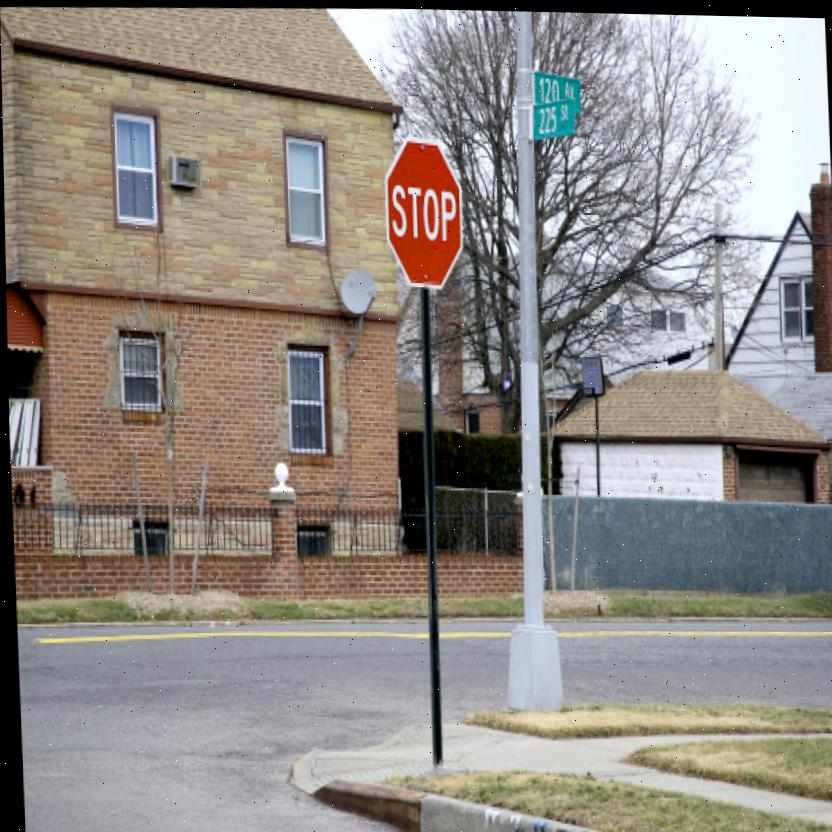Pole: (415, 300, 445, 758), (591, 395, 601, 492)
Sign: (379, 133, 465, 288)
